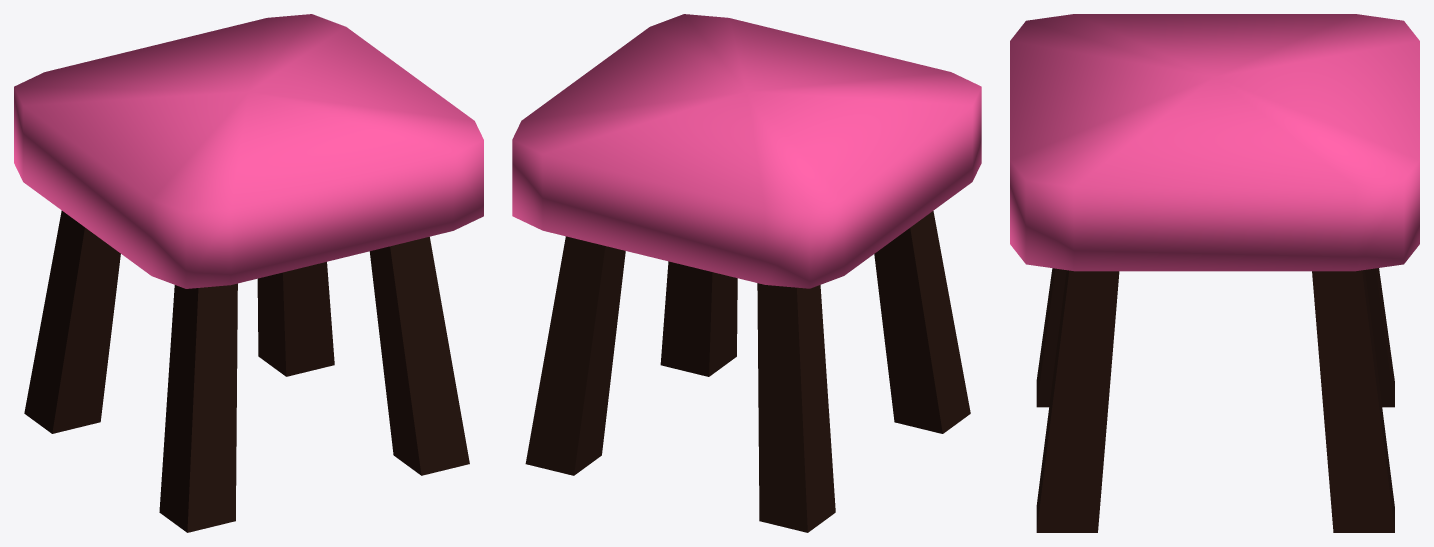
File: Chair_02.fbx
3 views of the same model, side by side, from view 1: azimuth 30°, elevation 25°; view 2: azimuth 150°, elevation 25°; view 3: azimuth 270°, elevation 25° (orthographic). The views are drawn at different scales.
Visible parts, largest first — view 1: Chair_02; view 2: Chair_02; view 3: Chair_02.
Part boxes in pixels (box(x1,y1,x2,y2)): Chair_02: box(14, 14, 483, 532); Chair_02: box(512, 14, 981, 532); Chair_02: box(1010, 14, 1419, 532).
Bounding box in the file's own units: 27.56 × 28.26 × 27.56.
